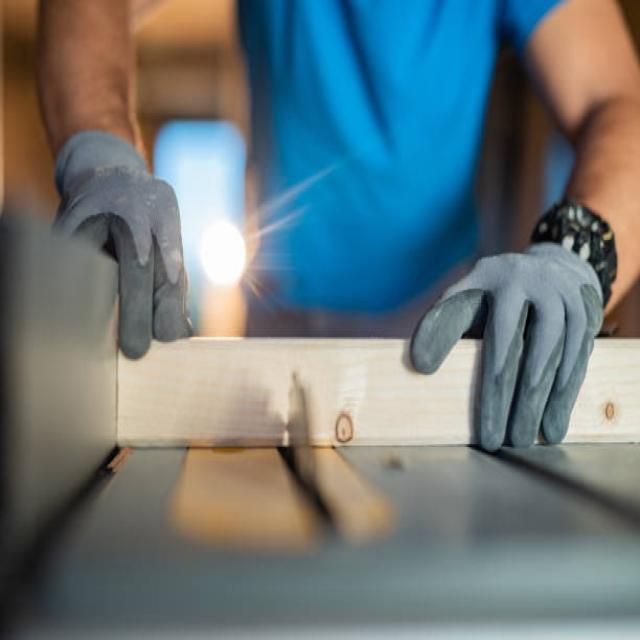gloves: (412, 254, 603, 441), (54, 137, 190, 359)
